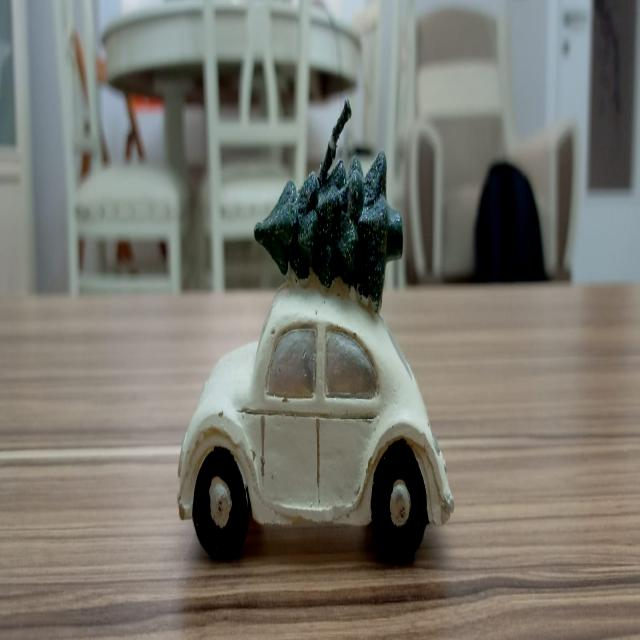car: (159, 289, 451, 555)
